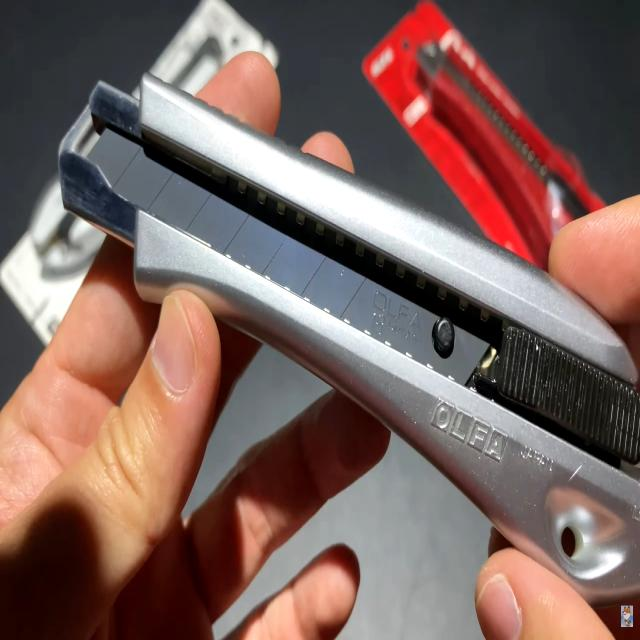cutter: (47, 7, 640, 598)
